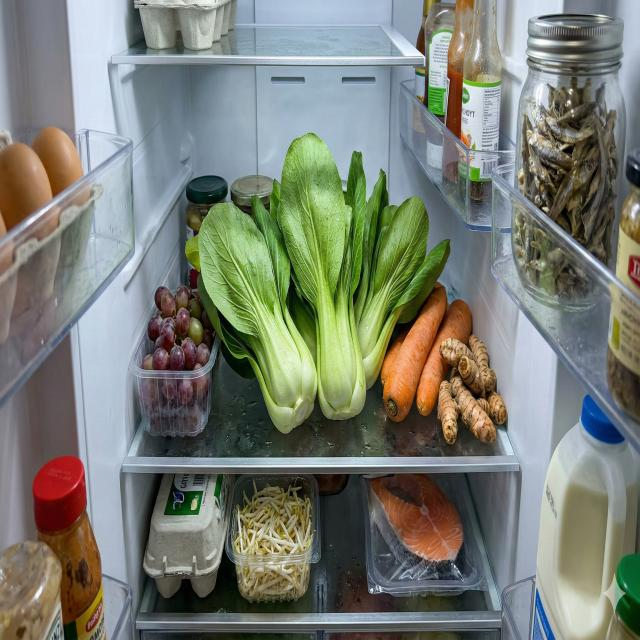anchovies: (513, 76, 620, 300)
bean_sprouts: (234, 479, 314, 602)
carrot: (380, 282, 472, 422)
egg: (0, 126, 105, 346), (144, 474, 234, 599)
fish: (369, 473, 466, 581)
grape: (140, 286, 215, 434)
pakchoy: (197, 132, 451, 435)
turmeric: (437, 333, 508, 446)
